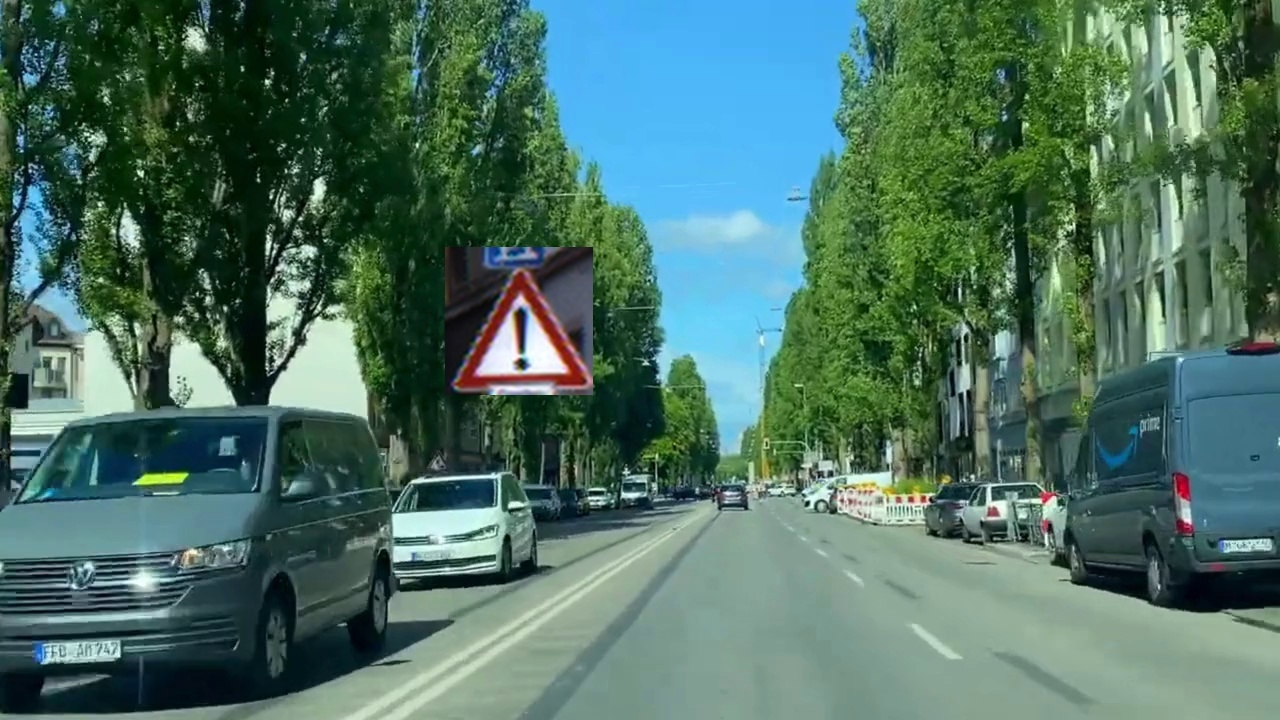Caution: (445, 247, 593, 395)
